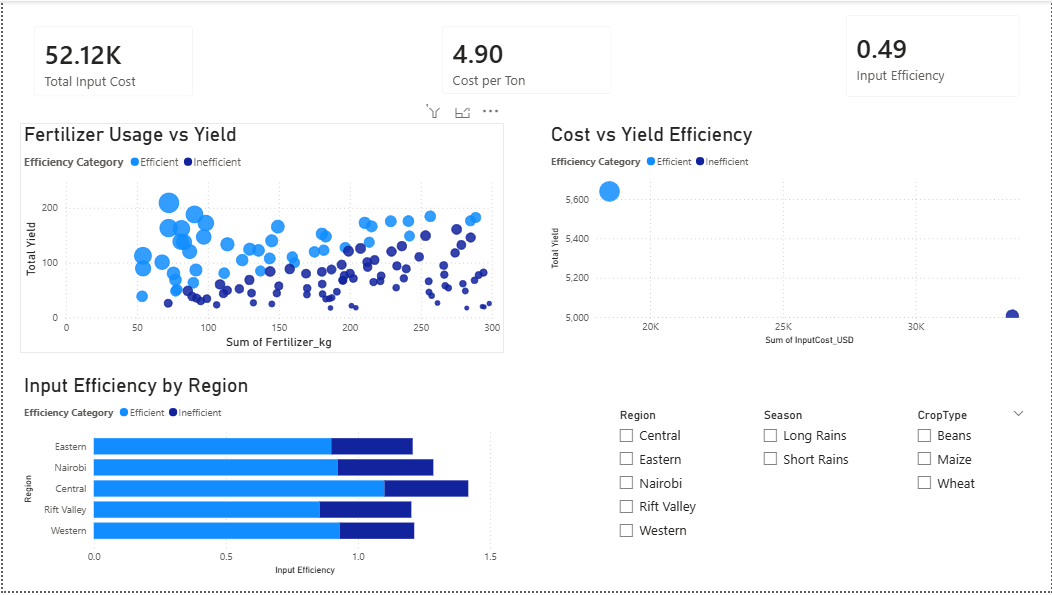

The dashboard page shown, as its layout file describes it:
{"tool":"powerbi","page":{"name":"Input Analysis","canvas":[1280,720],"ordinal":2},"visuals":[{"type":"scatterChart","title":"Fertilizer Usage vs Yield","fields":{"X":["Sum(Inputs.Fertilizer_kg)"],"Y":["Production.Total Yield"],"Category":["Farmers.FarmerID"],"Size":["Inputs.Input Efficiency"],"Series":["Inputs.Efficiency Category"]},"box":[20.7,148.9,590.6,280.7],"z":0},{"type":"scatterChart","title":"Cost vs Yield Efficiency","fields":{"X":["Sum(Inputs.InputCost_USD)"],"Y":["Production.Total Yield"],"Size":["Inputs.Input Efficiency"],"Series":["Inputs.Efficiency Category"]},"box":[663.9,148.9,594.3,275.8],"z":1},{"type":"cardVisual","fields":{"Data":["Inputs.Total Input Cost"]},"box":[20.7,13.4,228.2,120.8],"z":2},{"type":"cardVisual","fields":{"Data":["Inputs.Cost per Ton"]},"box":[518.6,13.4,241.6,117.2],"z":3},{"type":"cardVisual","fields":{"Data":["Inputs.Input Efficiency"]},"box":[1011.7,0,246.5,134.2],"z":4},{"type":"barChart","title":"Input Efficiency by Region","fields":{"Category":["Farmers.Region"],"Series":["Inputs.Efficiency Category"],"Y":["Inputs.Input Efficiency"]},"box":[20.7,455.2,618.7,250.2],"z":5},{"type":"slicer","fields":{"Values":["Farmers.Region"]},"box":[739.5,491.8,134.2,213.6],"z":6},{"type":"slicer","fields":{"Values":["Production.Season"]},"box":[915.3,491.8,147.7,173.3],"z":7},{"type":"slicer","fields":{"Values":["Production.CropType"]},"box":[1103.2,491.8,155,173.3],"z":8}]}

Visuals, with their boxes in screenshot pixels (x1, y1, x2, y2), scaled from the page's 1280x720 canvas onto the 1052x595 screenshot:
"Fertilizer Usage vs Yield" scatterChart: [x1=17, y1=123, x2=502, y2=355]
"Cost vs Yield Efficiency" scatterChart: [x1=546, y1=123, x2=1034, y2=351]
cardVisual - Inputs.Total Input Cost: [x1=17, y1=11, x2=205, y2=111]
cardVisual - Inputs.Cost per Ton: [x1=426, y1=11, x2=625, y2=108]
cardVisual - Inputs.Input Efficiency: [x1=831, y1=0, x2=1034, y2=111]
"Input Efficiency by Region" barChart: [x1=17, y1=376, x2=526, y2=583]
slicer - Farmers.Region: [x1=608, y1=406, x2=718, y2=583]
slicer - Production.Season: [x1=752, y1=406, x2=874, y2=550]
slicer - Production.CropType: [x1=907, y1=406, x2=1034, y2=550]
